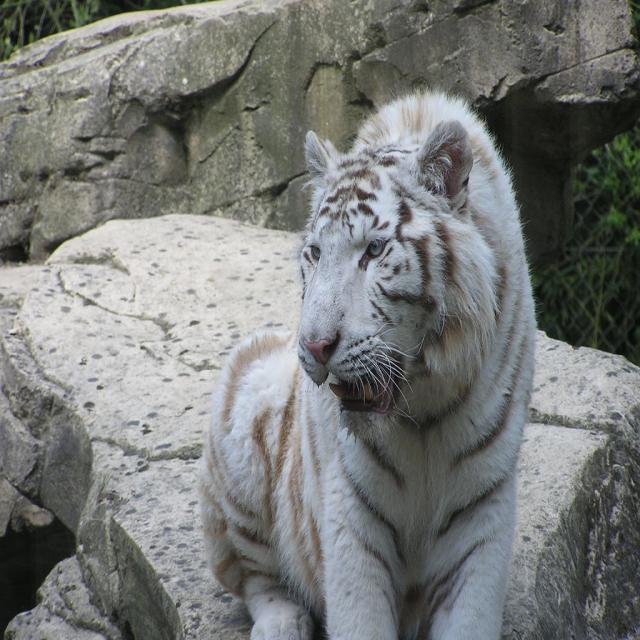Tiger: (196, 82, 546, 640)
